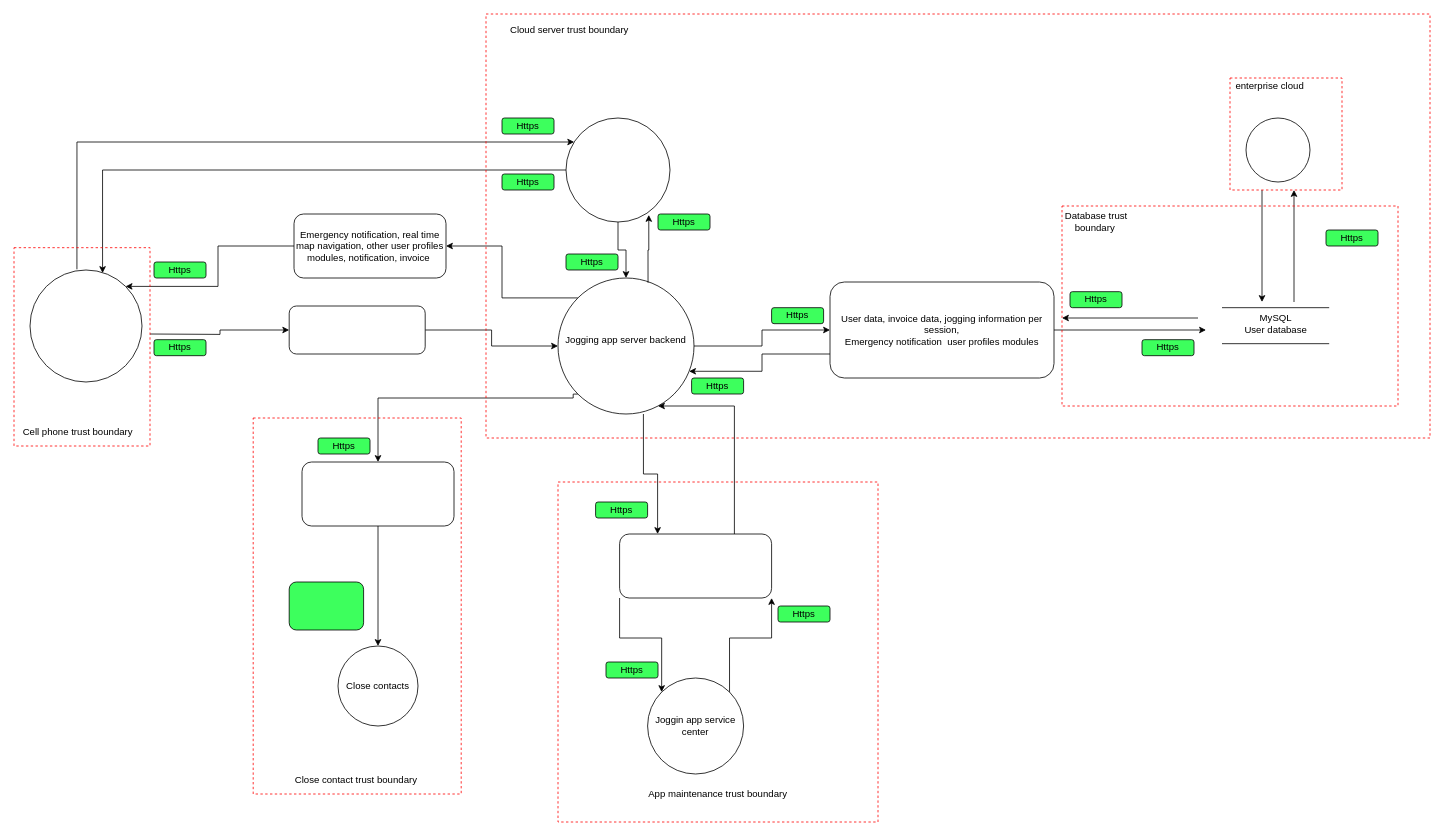
The diagram is 1444 pixels wide and 836 high, and some of its shapes have lost their labels. The shapes that lost their labels are listed below. From the top down, each one's centre as x and y in pixels, then its label:
At (x=617, y=169): "Authentication server (OAuth 2.0, MFA)".
At (x=1277, y=149): "Cloud service".
At (x=85, y=325): "Jogging app Joggy Android/IOS".
At (x=356, y=329): "User data, location service, invoice data. Emergency notification".
At (x=377, y=493): "Emergency Notification and location for the danger".
At (x=695, y=565): "Emergency Notification System, jogging routs information invoice information".
At (x=326, y=605): "SMS SS7 (Signaling System No. 7)".
